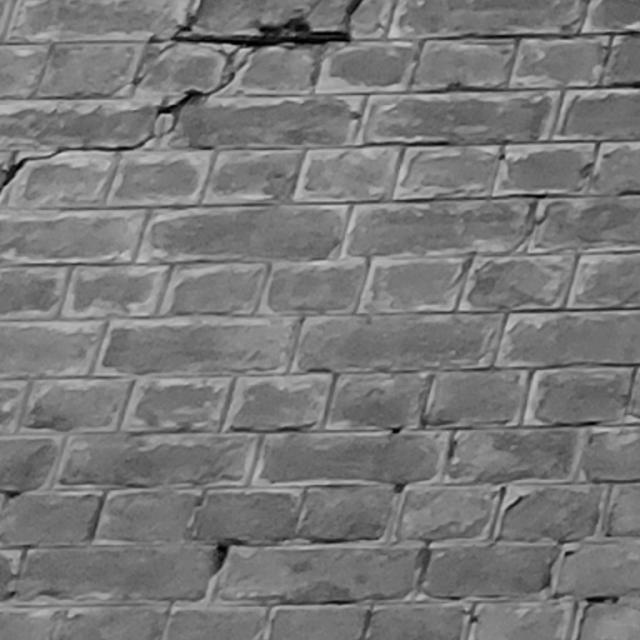crack: (1, 1, 359, 192)
